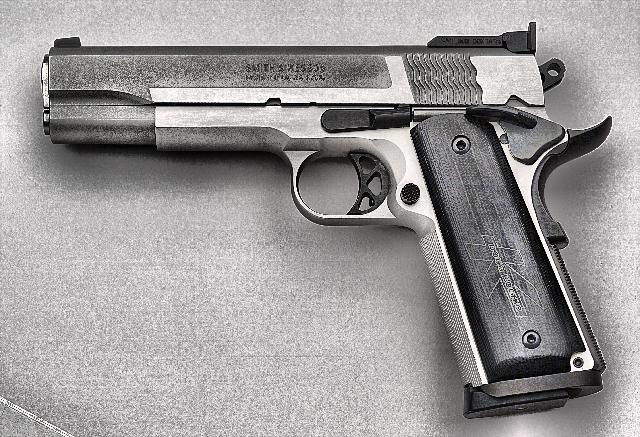pistol: (34, 27, 616, 409)
